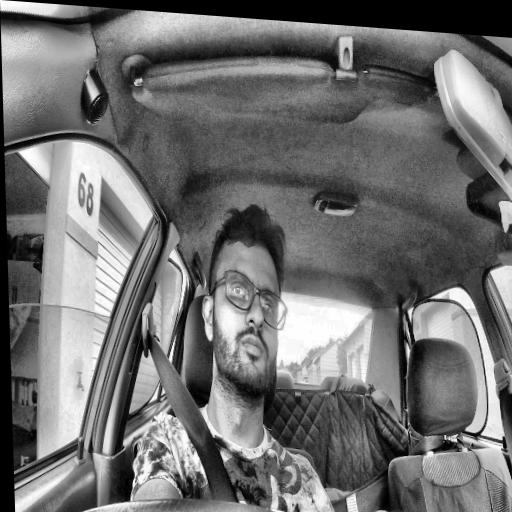awake: (198, 199, 290, 401)
